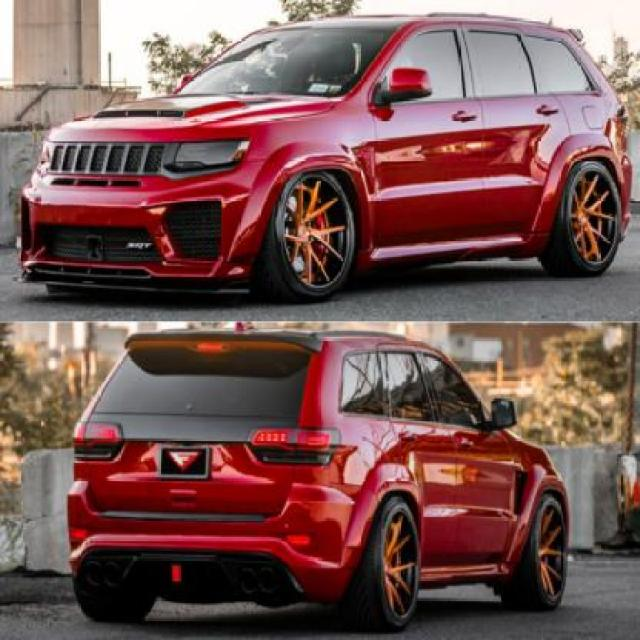Jeep: (20, 8, 631, 300), (68, 325, 568, 626)
